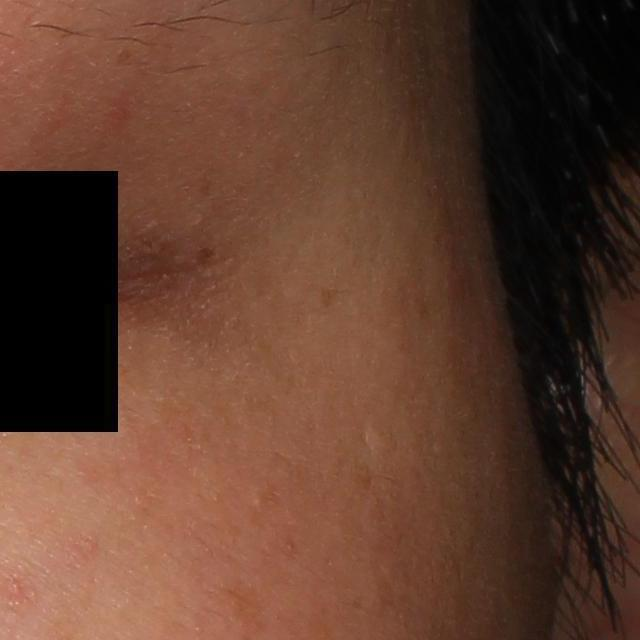atrophic_scar: (358, 421, 372, 447)
melasma: (318, 285, 343, 313), (193, 246, 220, 262)
